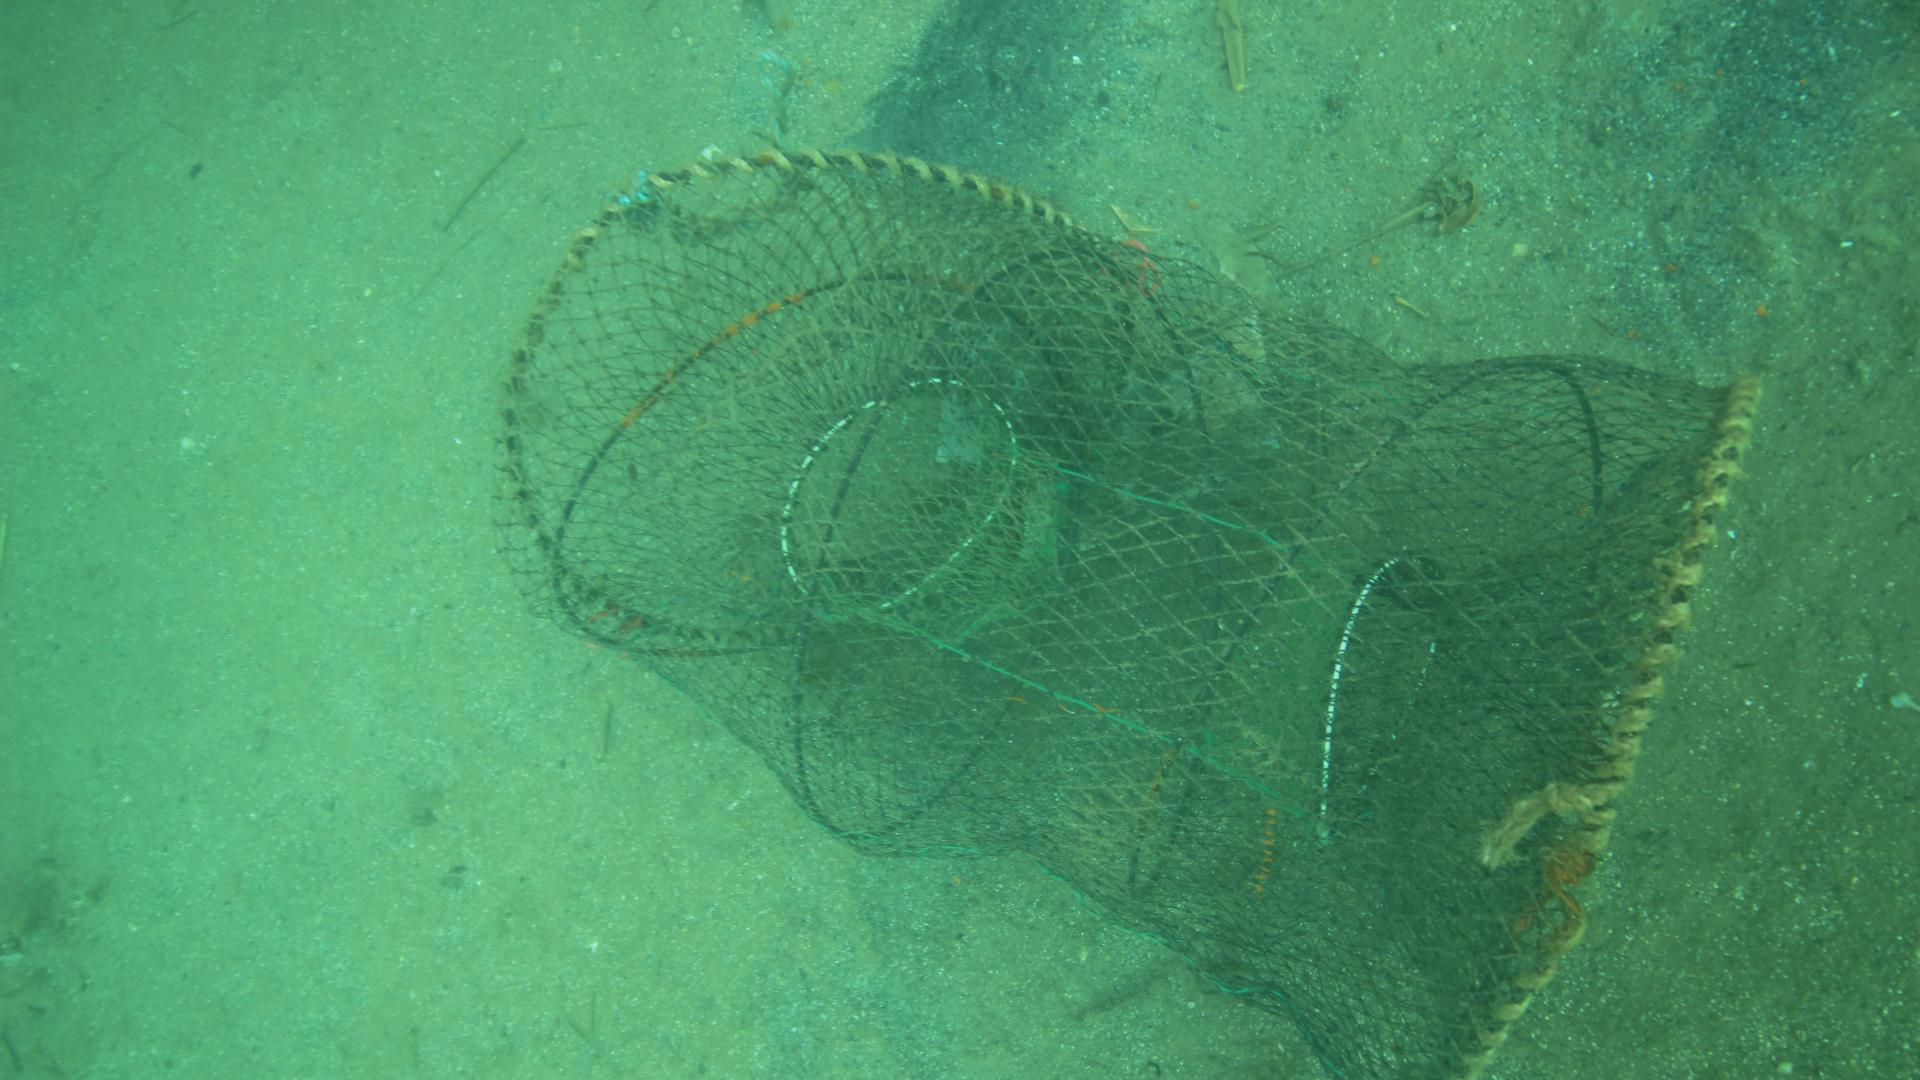spring fish trap: (485, 146, 1767, 1080)
